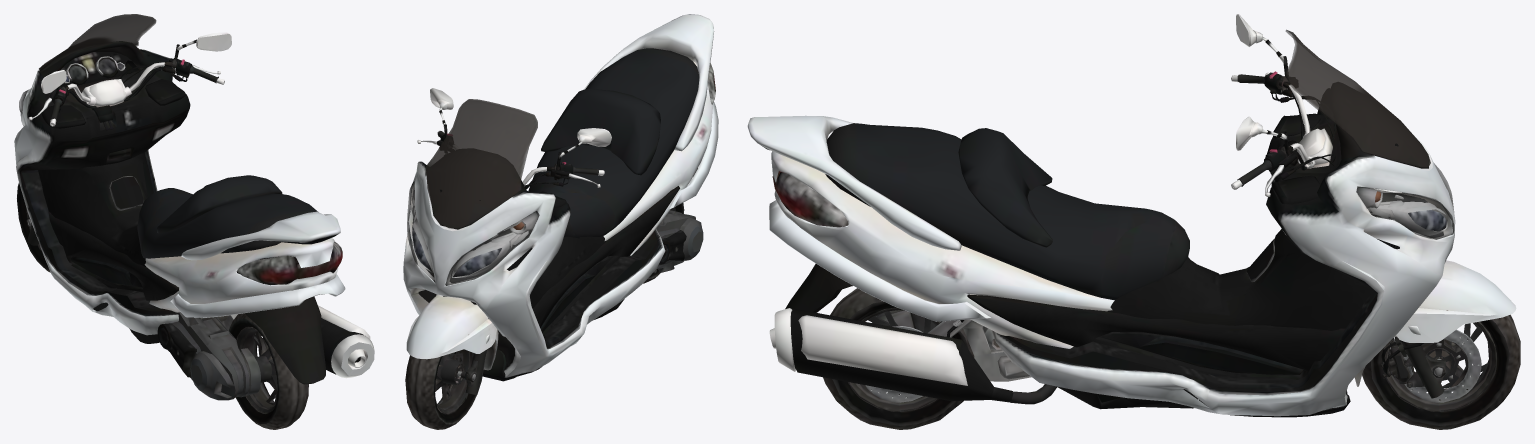
Rendered from suzuki-skywave.glb.
3 renders of one model, left to right at view 1: azimuth 30°, elevation 25°; view 2: azimuth 150°, elevation 25°; view 3: azimuth 270°, elevation 25°, orthographic. The views are drawn at different scales.
Parts seen in each view (by area): view 1: low_model_LPoly_0, low_model_LPoly2(back_detail)_0; view 2: low_model_LPoly_0; view 3: low_model_LPoly_0, low_model_LPoly2(back_detail)_0.
Part boxes in pixels (x1,y1,x2,y2): low_model_LPoly_0: (14,14,374,429); low_model_LPoly2(back_detail)_0: (244,296,325,384); low_model_LPoly_0: (403,14,718,429); low_model_LPoly_0: (747,14,1520,429); low_model_LPoly2(back_detail)_0: (785,263,852,312).
Size of the model in its own units: 0.9654 by 1.42 by 2.6.
2 materials, 2 textured.
